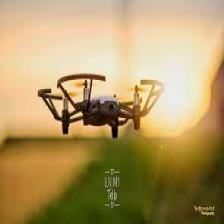drone: (37, 74, 164, 134)
